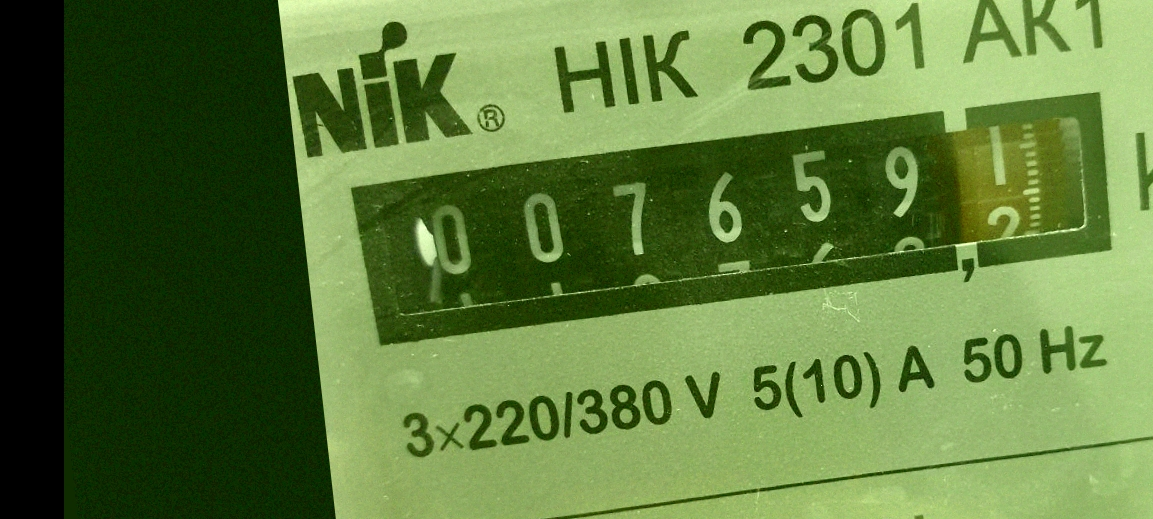0: (509, 180, 574, 272), (422, 192, 482, 287)
1: (979, 116, 1021, 195)
5: (785, 143, 839, 229)
6: (693, 161, 753, 250)
7: (607, 174, 658, 263)
9: (877, 136, 929, 228)
screen: (329, 68, 1142, 369)
